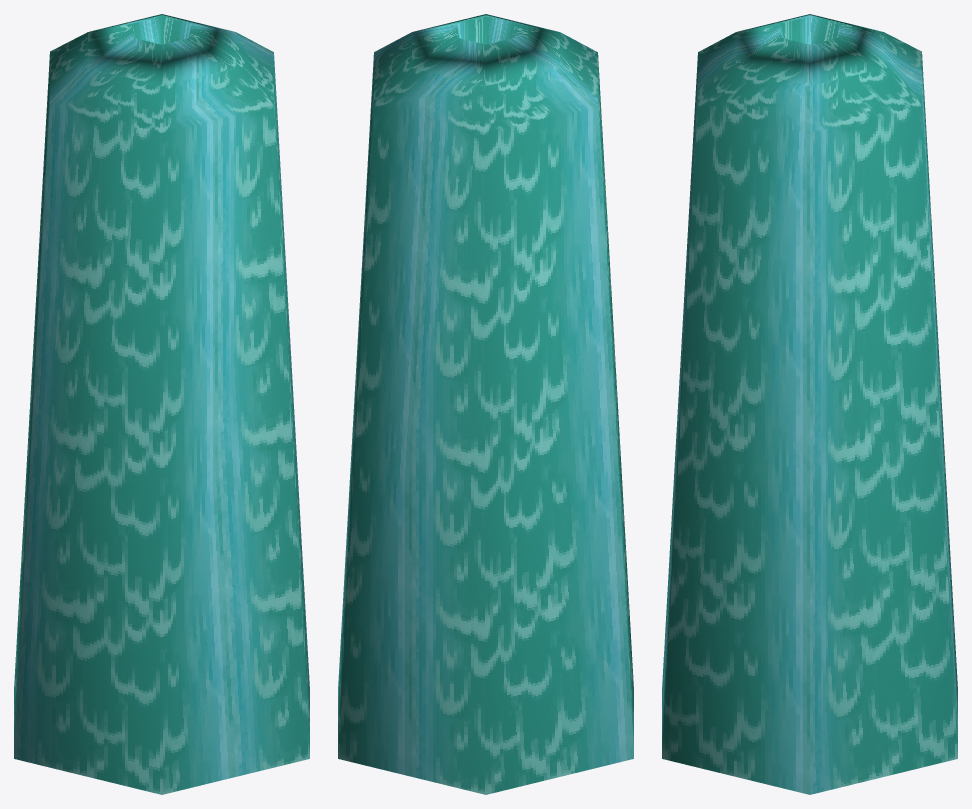
File: Hfountain.FBX
The picture shows the model from 3 angles, left to right: view 1: azimuth 30°, elevation 25°; view 2: azimuth 150°, elevation 25°; view 3: azimuth 270°, elevation 25°; orthographic projection.
Visible parts, largest first — view 1: Fountain; view 2: Fountain; view 3: Fountain.
Part boxes in pixels (box(x1,y1,x2,y2)): Fountain: box(14, 14, 309, 794); Fountain: box(338, 14, 633, 794); Fountain: box(662, 14, 957, 794).
Bounding box in the file's own units: 374 × 853 × 324.
